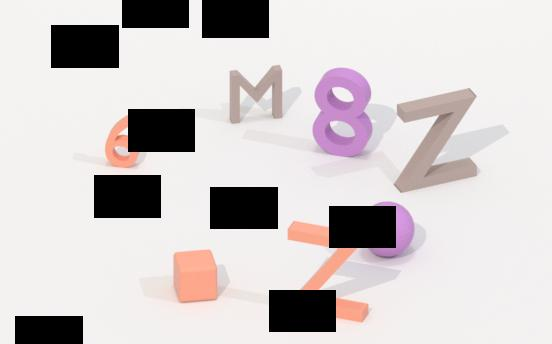6: (104, 111, 144, 171)
8: (312, 65, 374, 164)
M-hoa: (229, 61, 285, 124)
hop: (172, 246, 221, 306)
tron: (357, 198, 416, 259)
z: (285, 214, 374, 326), (395, 90, 482, 190)
